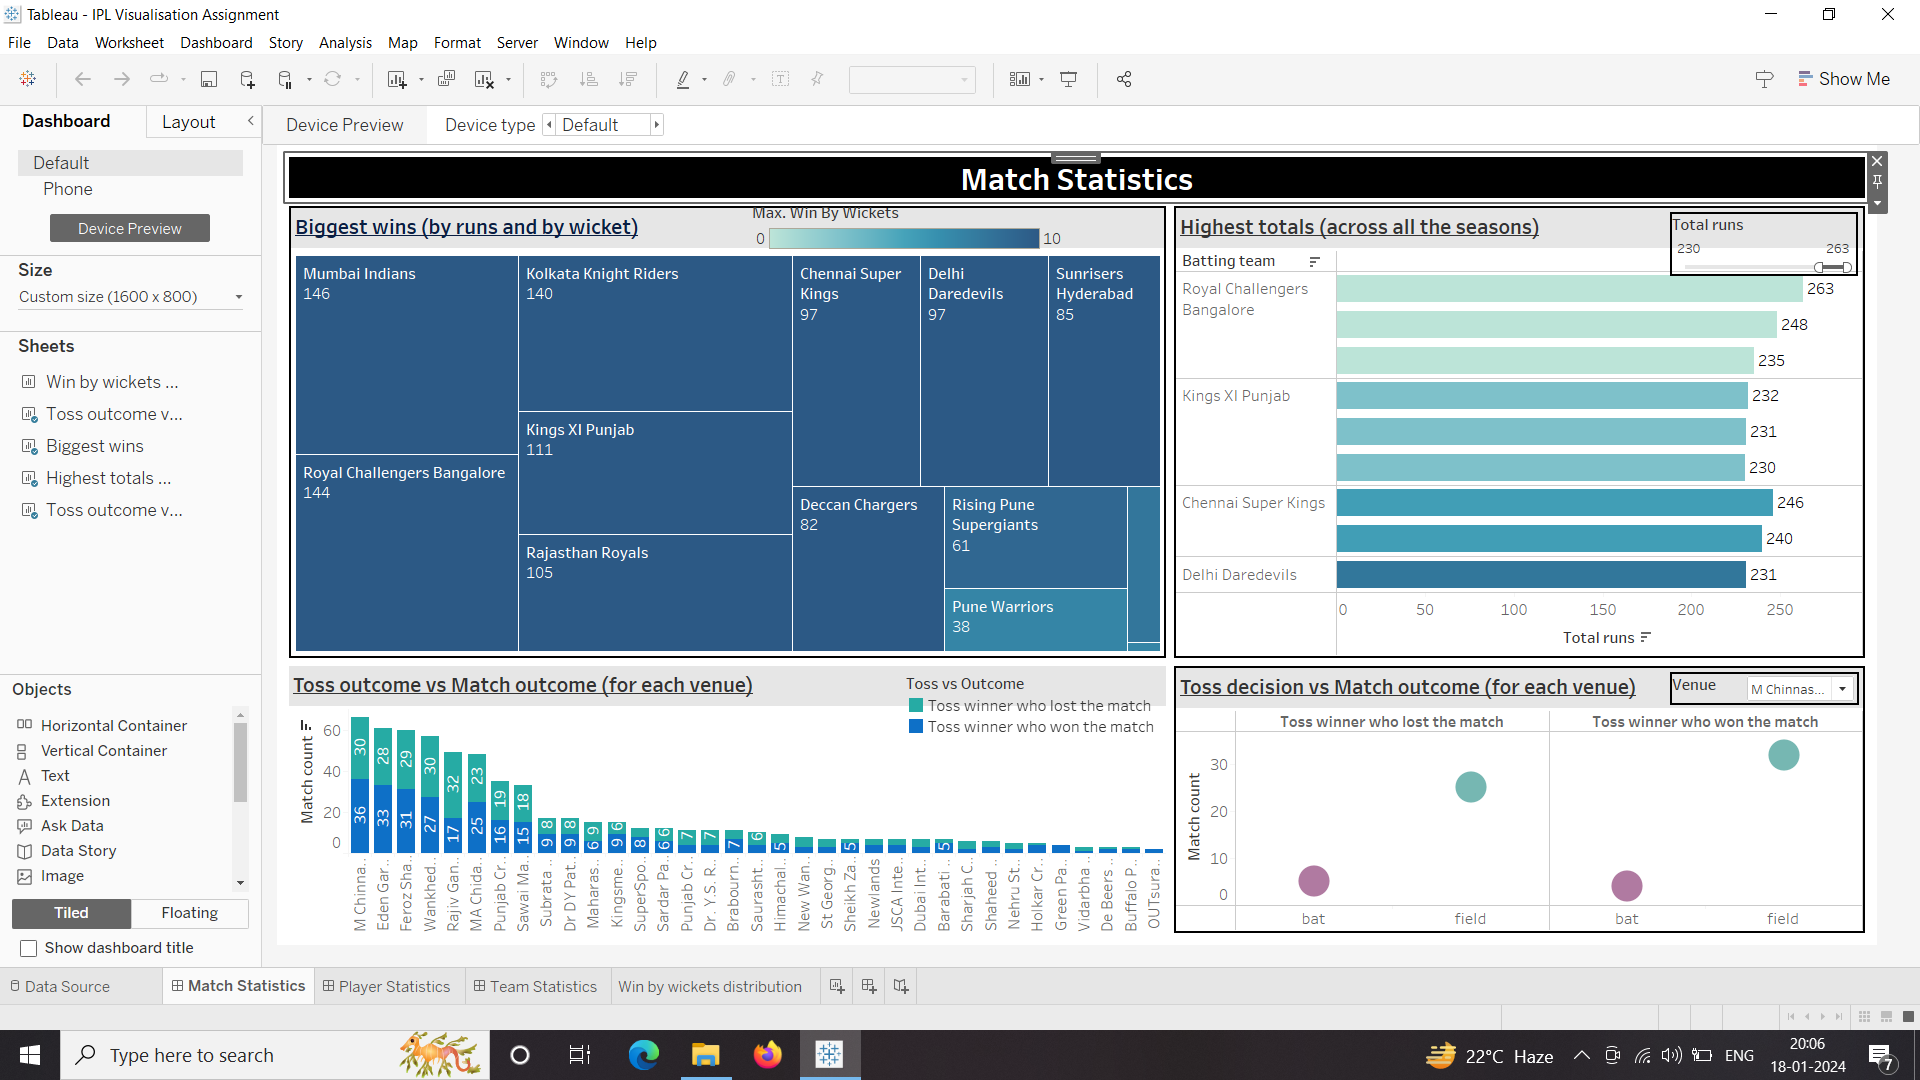

This screenshot's page, from the dashboard's own definition file:
{"tool":"tableau","page":{"name":"Match Statistics","canvas":[1600,800],"ordinal":0},"visuals":[{"type":"title","box":[8,8,1584,49]},{"type":"legend","title":"Biggest wins","param":"[federated.1ucho6z02y3nsr1040je40x66djt].[max:win_by_wickets:qk]","box":[474.7,56.5,313.5,63.4]},{"type":"worksheet","title":"Biggest wins","mark":"Automatic","box":[8,57,885.4,459.6]},{"type":"worksheet","title":"Highest totals (across all the seasons)","mark":"Automatic","rows":["batting_team","match_id"],"cols":["total_runs"],"box":[893.4,57,698.6,459.6]},{"type":"filter","title":"Highest totals (across all the seasons)","param":"[federated.1ucho6z02y3nsr1040je40x66djt].[sum:total_runs:qk]","box":[1393,67,188,64]},{"type":"worksheet","title":"Toss outcome v/s match outcome","mark":"Automatic","rows":["id"],"cols":["venue"],"box":[8,516.6,885.4,275.4]},{"type":"worksheet","title":"Toss outcome vs match outcome vs toss decision","mark":"Shape","rows":["id"],"cols":["Calculation_-[number redacted]","toss_decision"],"box":[893.4,516.6,698.6,275.4]},{"type":"filter","title":"Toss outcome vs match outcome vs toss decision","param":"[federated.1ucho6z02y3nsr1040je40x66djt].[none:venue:nk]","box":[1393,527,189,33]},{"type":"legend","title":"Toss outcome v/s match outcome","param":"[federated.1ucho6z02y3nsr1040je40x66djt].[none:Calculation_-[number redacted]:","box":[629,528,253,64]}]}

Visuals, with their boxes on the page's 1600x800 design canvas (x1, y1, x2, y2). These are canvas units, not pixel positions in the 1920x1080 screenshot, which may show the page scaled, cropped or inside an application window:
title: bbox=[8, 8, 1592, 57]
"Biggest wins" legend: bbox=[475, 56, 788, 120]
"Biggest wins" worksheet: bbox=[8, 57, 893, 517]
"Highest totals (across all the seasons)" worksheet: bbox=[893, 57, 1592, 517]
"Highest totals (across all the seasons)" filter: bbox=[1393, 67, 1581, 131]
"Toss outcome v/s match outcome" worksheet: bbox=[8, 517, 893, 792]
"Toss outcome vs match outcome vs toss decision" worksheet (Shape marks): bbox=[893, 517, 1592, 792]
"Toss outcome vs match outcome vs toss decision" filter: bbox=[1393, 527, 1582, 560]
"Toss outcome v/s match outcome" legend: bbox=[629, 528, 882, 592]
